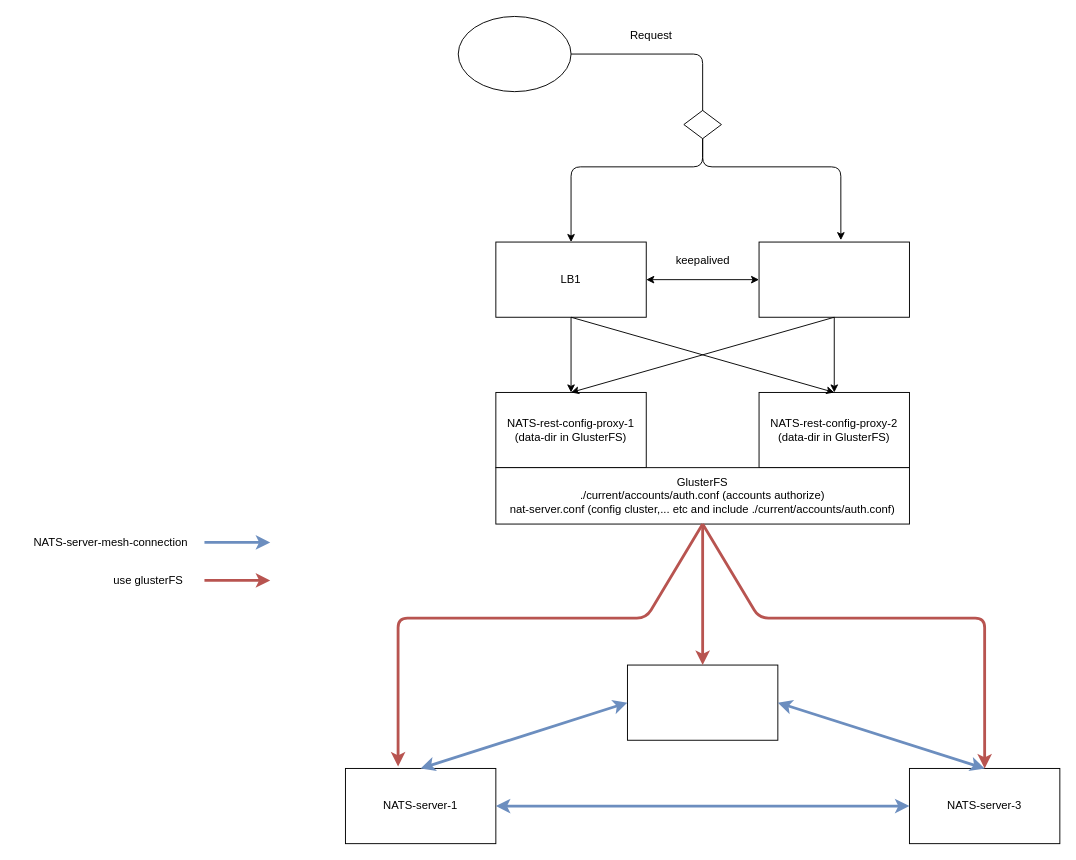
The diagram is 1076 pixels wide and 860 high, and some of its shapes have lost their labels. Each missing label, with the centre of its shape:
"LB2" belongs at point 833,279.
"NATS-server-2" belongs at point 702,702.
"VIP" belongs at point 702,124.
